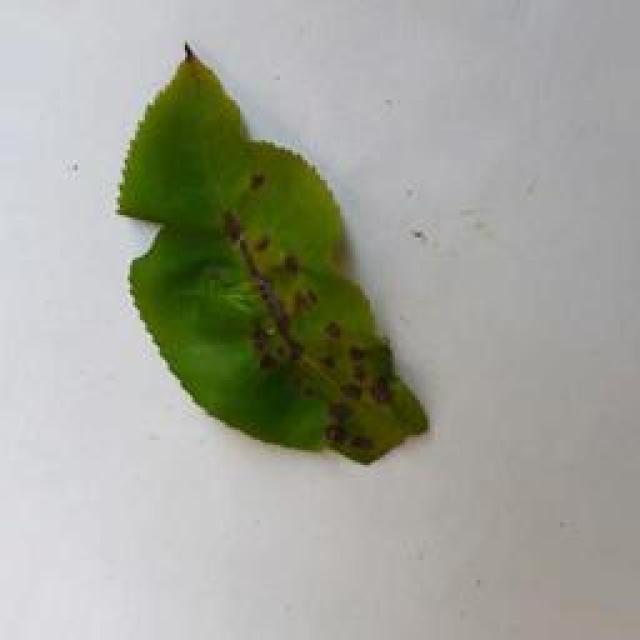Helopeltis: (114, 31, 433, 464)
